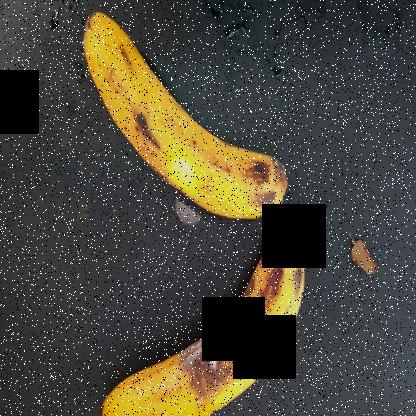overripe: (73, 1, 294, 218), (90, 232, 324, 415)
rotten: (169, 308, 254, 411)
